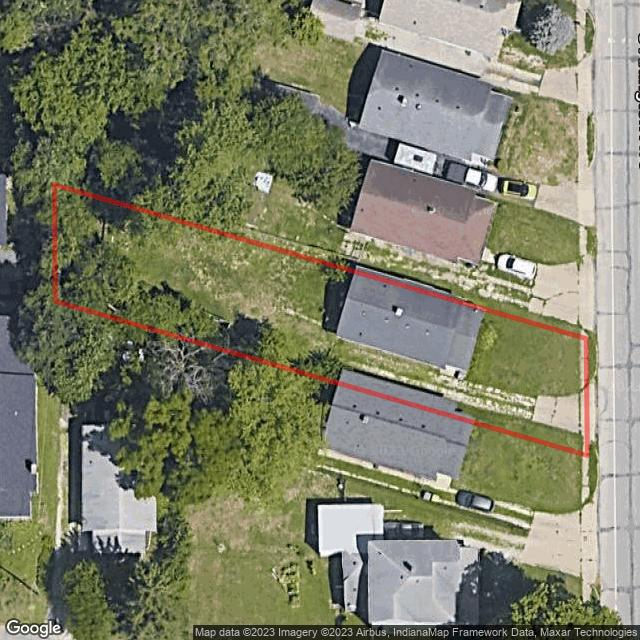Driveway: (341, 341, 579, 433)
Extra Driveway: (589, 371, 599, 447)
House: (338, 276, 483, 373)
Sidewalk: (579, 393, 585, 436)
